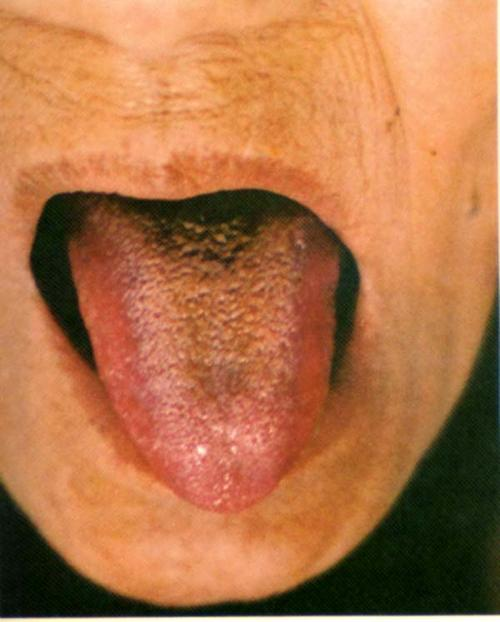heitaishe: (67, 195, 340, 513)
hongshe: (67, 195, 340, 513)
